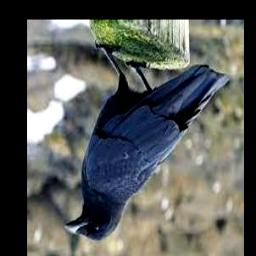Crow: (66, 43, 230, 242)
